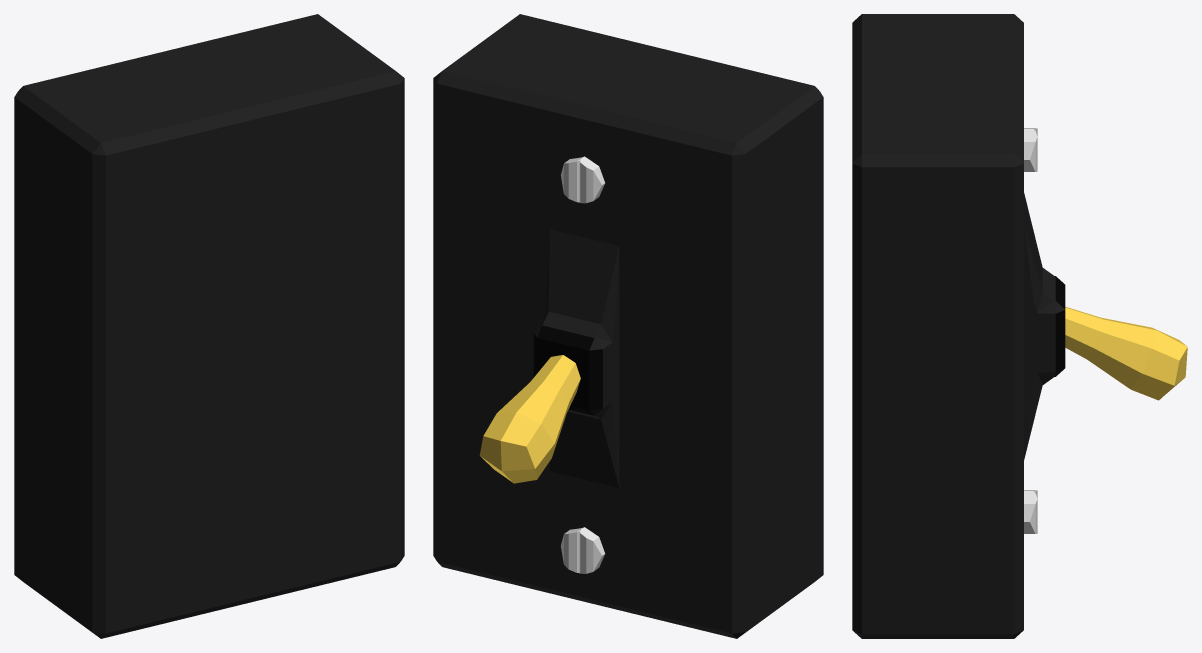
File: switch_on-2.fbx
3 renders of one model, left to right at view 1: azimuth 30°, elevation 25°; view 2: azimuth 150°, elevation 25°; view 3: azimuth 270°, elevation 25°, orthographic. The views are drawn at different scales.
Visible parts, largest first — view 1: Cylinder.011; view 2: Cylinder.011; view 3: Cylinder.011.
Part boxes in pixels (x1,y1,x2,y2): Cylinder.011: [14, 14, 404, 638]; Cylinder.011: [433, 14, 823, 638]; Cylinder.011: [852, 14, 1187, 638].
Bounding box in the file's own units: 80.98 × 123 × 77.21.
